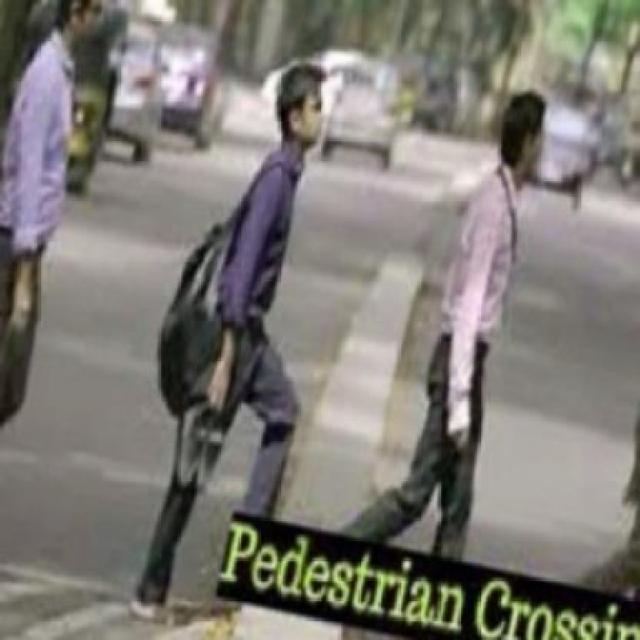Person: (153, 40, 330, 518), (388, 75, 554, 560), (0, 0, 120, 455)
